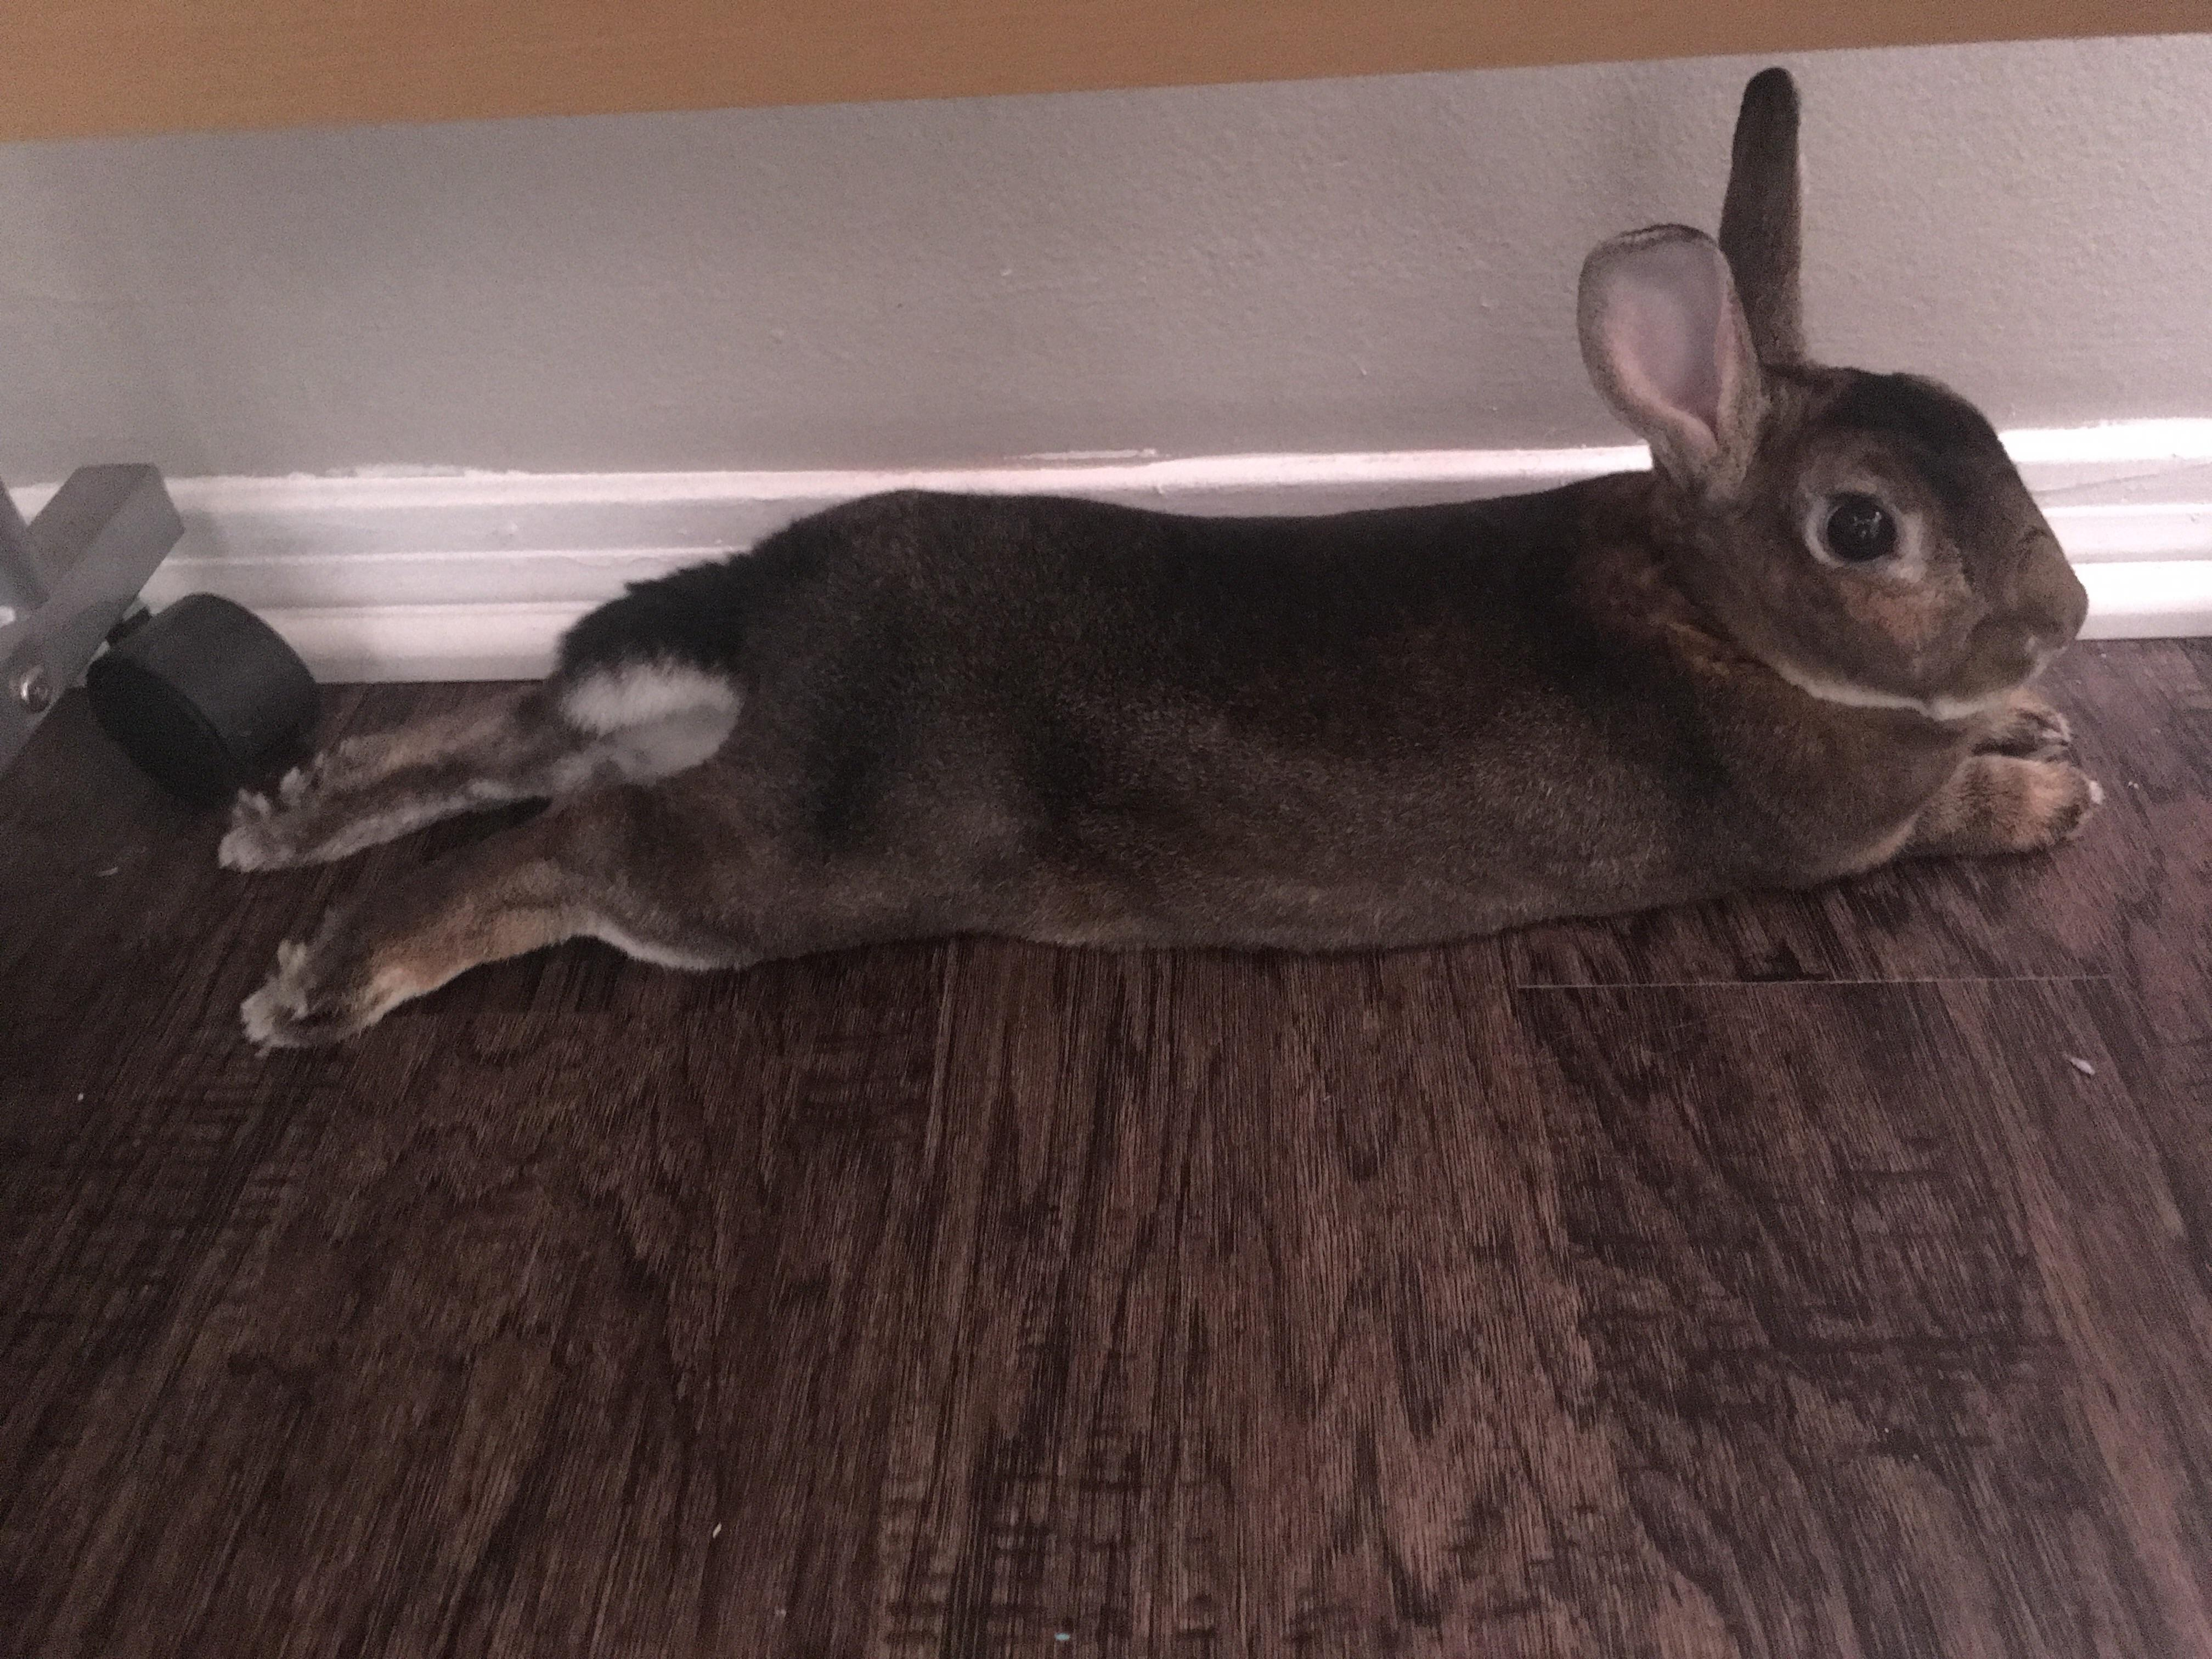bunny: (103, 35, 2175, 1110)
